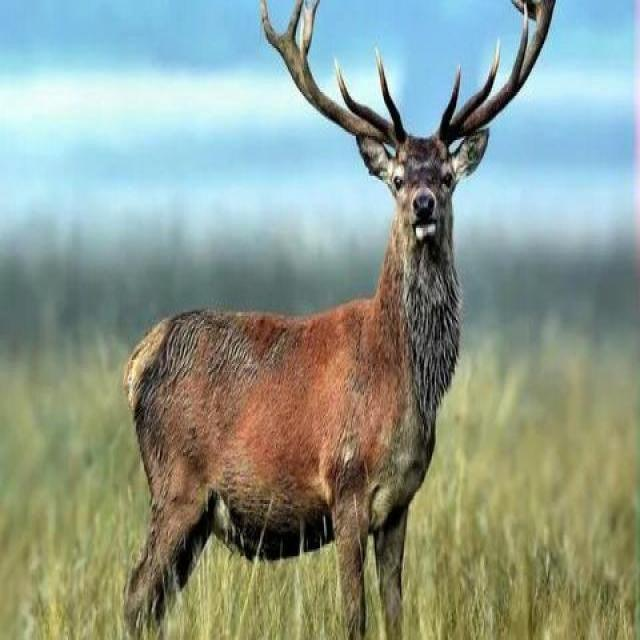deer: (123, 2, 575, 574)
